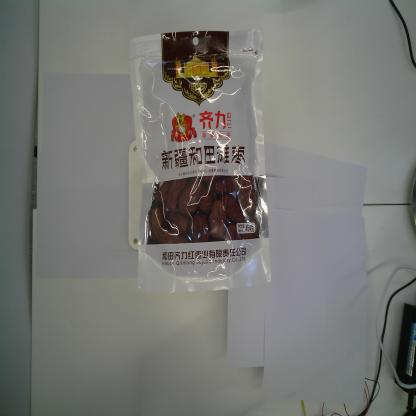Dried Food: (126, 26, 273, 300)
